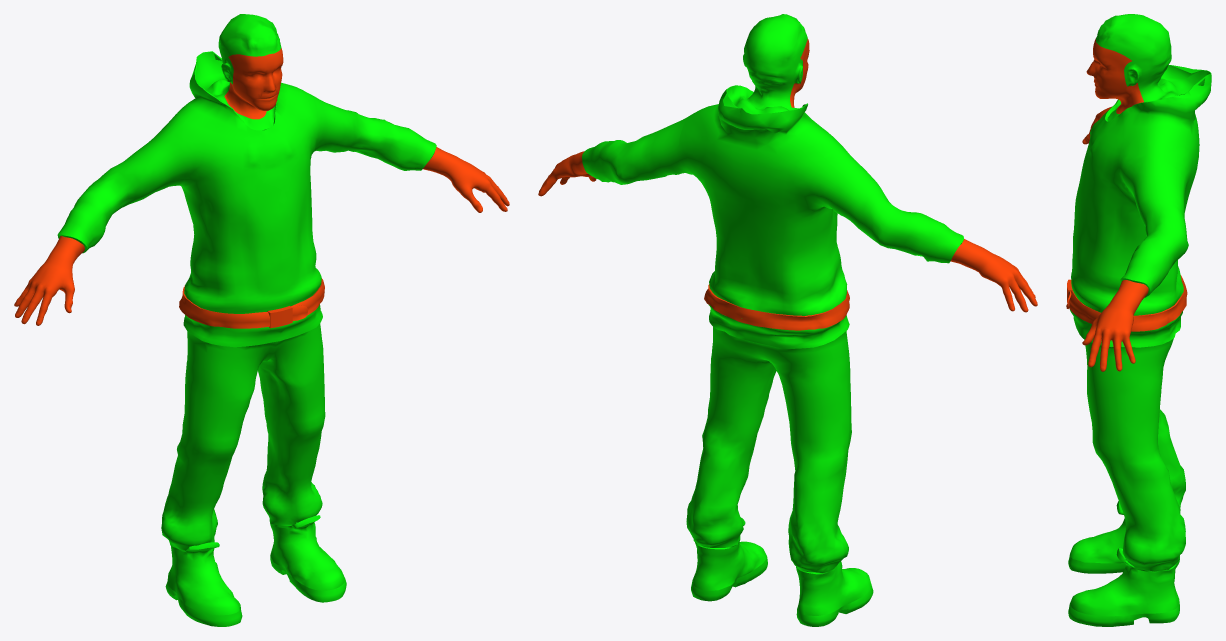
File: MainCharacterLP (1).fbx
3 renders of one model, left to right at view 1: azimuth 30°, elevation 25°; view 2: azimuth 150°, elevation 25°; view 3: azimuth 270°, elevation 25°, orthographic.
Parts seen in each view (by area): view 1: GG; view 2: GG; view 3: GG.
Boxes of the visible parts, x1,y1,x2,y2 form: GG: (14, 14, 509, 626); GG: (538, 14, 1037, 626); GG: (1066, 14, 1211, 626).
Size of the model in its own units: 1809 by 2033 by 465.
